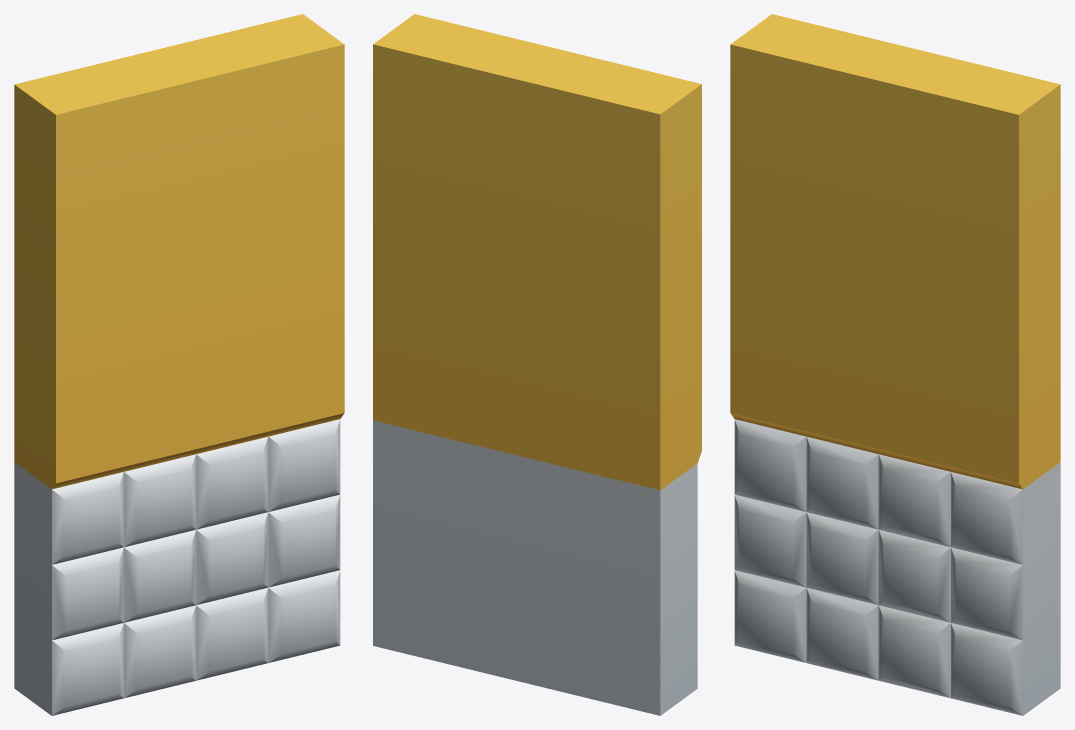
The model's file is Wall Tiled Straight.glb.
The picture shows the model from 3 angles, left to right: view 1: azimuth 30°, elevation 25°; view 2: azimuth 150°, elevation 25°; view 3: azimuth 330°, elevation 25°; orthographic projection.
Parts seen in each view (by area): view 1: wall_tiled_straight; view 2: wall_tiled_straight; view 3: wall_tiled_straight.
Boxes of the visible parts, bbox=[...] form: wall_tiled_straight: bbox=[14, 14, 344, 715]; wall_tiled_straight: bbox=[373, 14, 701, 715]; wall_tiled_straight: bbox=[730, 14, 1060, 715].
Size of the model in its own units: 2 by 4 by 0.5.
1 material, 1 textured.
